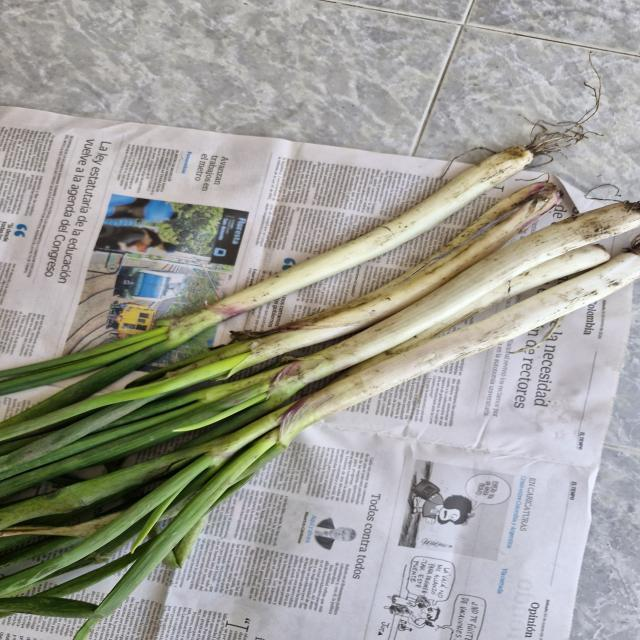green_onion: (0, 195, 634, 640), (0, 135, 537, 470)
